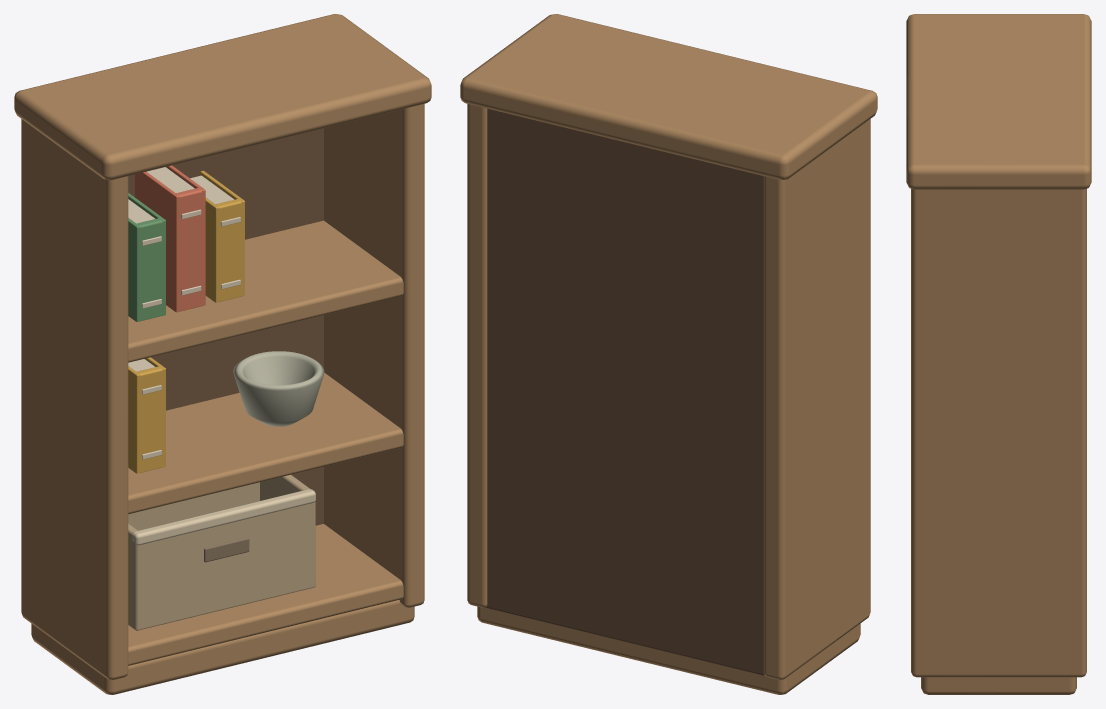
The model's file is shelf.glb.
The picture shows the model from 3 angles, left to right: view 1: azimuth 30°, elevation 25°; view 2: azimuth 150°, elevation 25°; view 3: azimuth 270°, elevation 25°; orthographic projection. The views are drawn at different scales.
Visible parts, largest first — view 1: case-side--1, proud-crown-cap, case-side-1, supported-shelf-1, continuous-recessed-back, supported-shelf-2, lower-bin-face-1, supported-shelf-0, grounded-recessed-plinth, middle-bowl, shelf-book-1-bound-spine, lower-bin-bound-rim-1 (+12 smaller); view 2: continuous-recessed-back, case-side--1, proud-crown-cap, case-side-1, grounded-recessed-plinth; view 3: case-side-1, proud-crown-cap, grounded-recessed-plinth.
Part boxes in pixels (x1=…): case-side--1: x1=21, y1=88, x2=128, y2=679; proud-crown-cap: x1=14, y1=14, x2=431, y2=179; case-side-1: x1=324, y1=40, x2=424, y2=607; supported-shelf-1: x1=128, y1=373, x2=403, y2=514; continuous-recessed-back: x1=128, y1=128, x2=323, y2=525; supported-shelf-2: x1=128, y1=220, x2=403, y2=362; lower-bin-face-1: x1=132, y1=502, x2=313, y2=627; supported-shelf-0: x1=128, y1=524, x2=403, y2=665; grounded-recessed-plinth: x1=31, y1=600, x2=414, y2=694; middle-bowl: x1=233, y1=351, x2=324, y2=426; shelf-book-1-bound-spine: x1=172, y1=187, x2=203, y2=311; lower-bin-bound-rim-1: x1=132, y1=489, x2=315, y2=545; continuous-recessed-back: x1=485, y1=108, x2=764, y2=675; case-side--1: x1=763, y1=88, x2=870, y2=679; proud-crown-cap: x1=460, y1=14, x2=877, y2=179; case-side-1: x1=467, y1=55, x2=515, y2=607; grounded-recessed-plinth: x1=477, y1=606, x2=860, y2=694; case-side-1: x1=911, y1=157, x2=1086, y2=677; proud-crown-cap: x1=906, y1=14, x2=1091, y2=189; grounded-recessed-plinth: x1=921, y1=677, x2=1076, y2=694.
Bounding box in the file's own units: 1 × 1.59 × 0.5.
